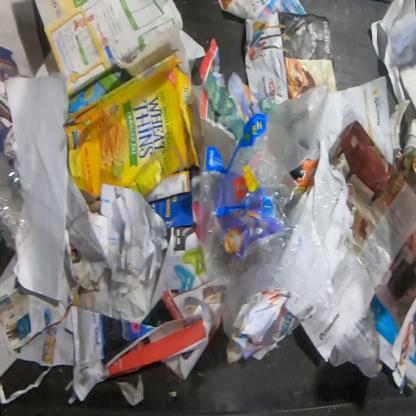cardboard: (62, 54, 202, 214), (109, 19, 193, 82), (199, 116, 237, 168), (148, 192, 194, 229), (295, 160, 320, 187)
soft_plastic: (197, 82, 345, 342), (0, 150, 34, 252), (239, 112, 267, 146)
